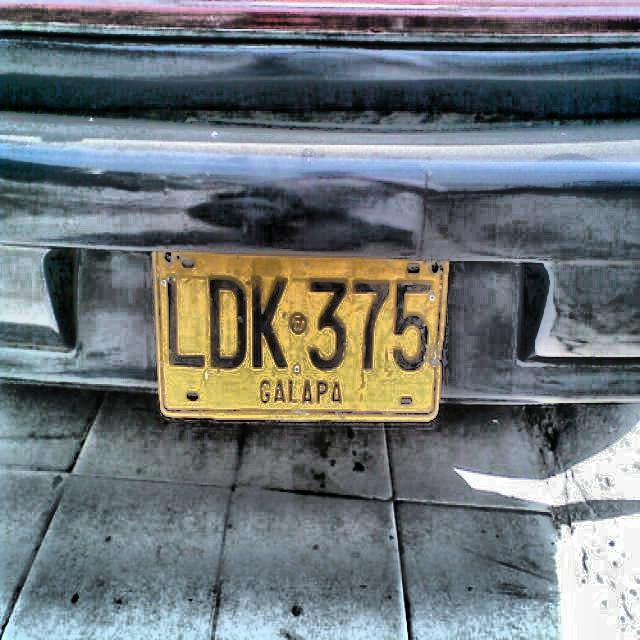plate: (156, 251, 444, 414)
